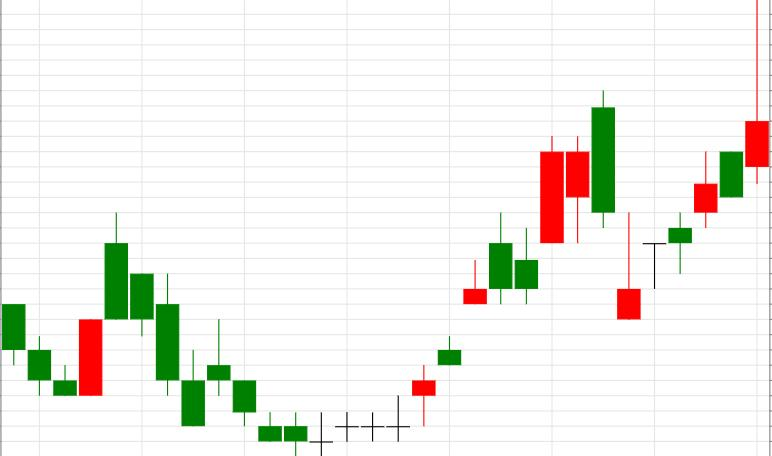shooting_star_fall: (618, 1, 770, 319)
